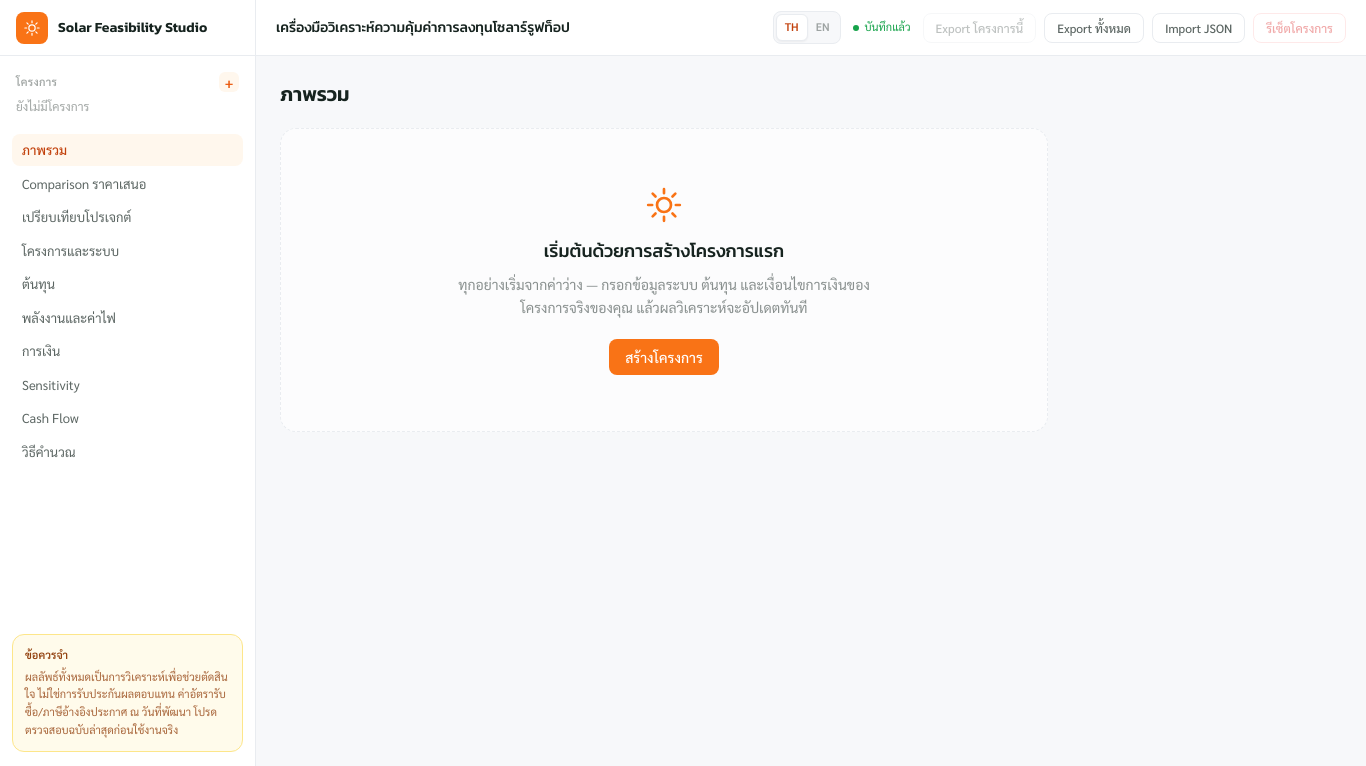
energy page (Phase 4) › summary strip reflects entered assumptions
The image size is (1366, 766).
Click the button "สร้างโครงการ" at (664, 356), box x1=609 y1=338 x2=719 y2=374
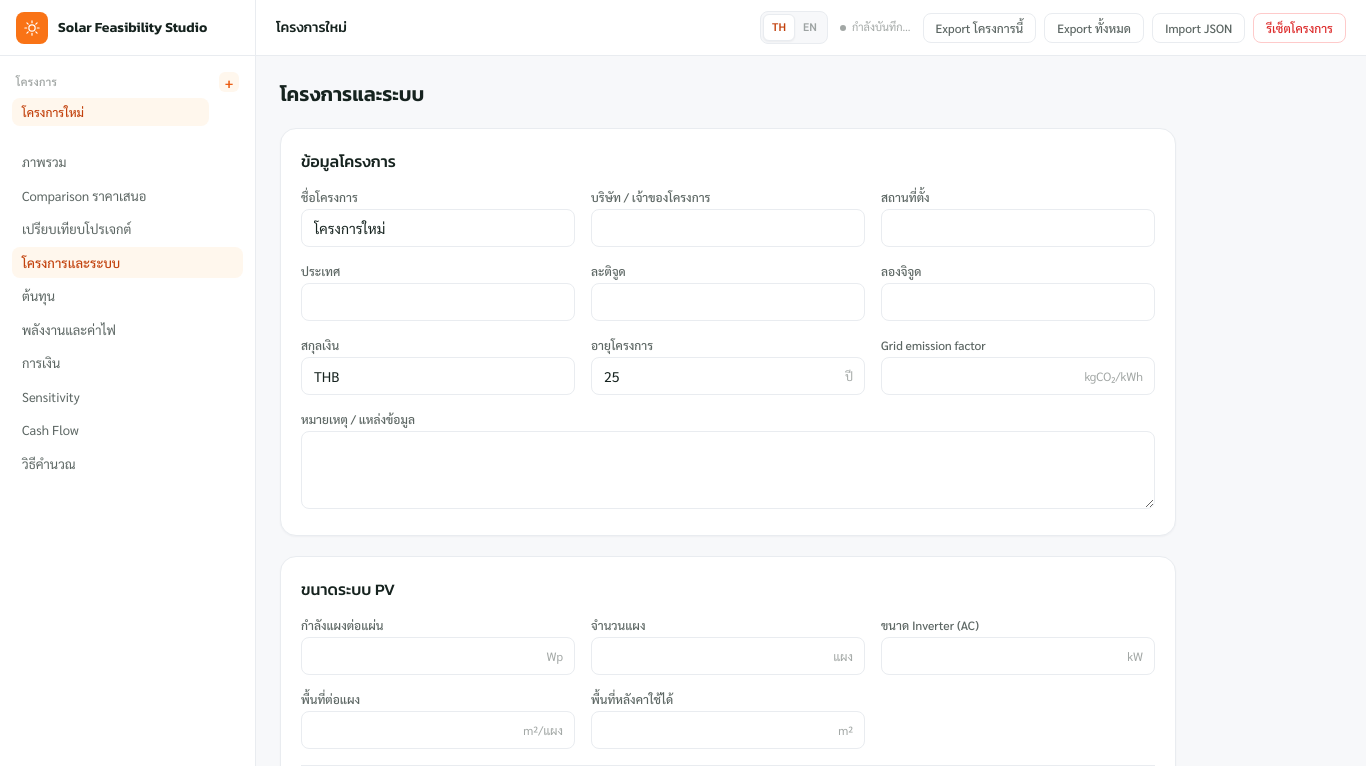
Type "500" into the number field labelled "กำลังแผงต่อแผ่น" at (438, 656), box x1=301 y1=637 x2=575 y2=675
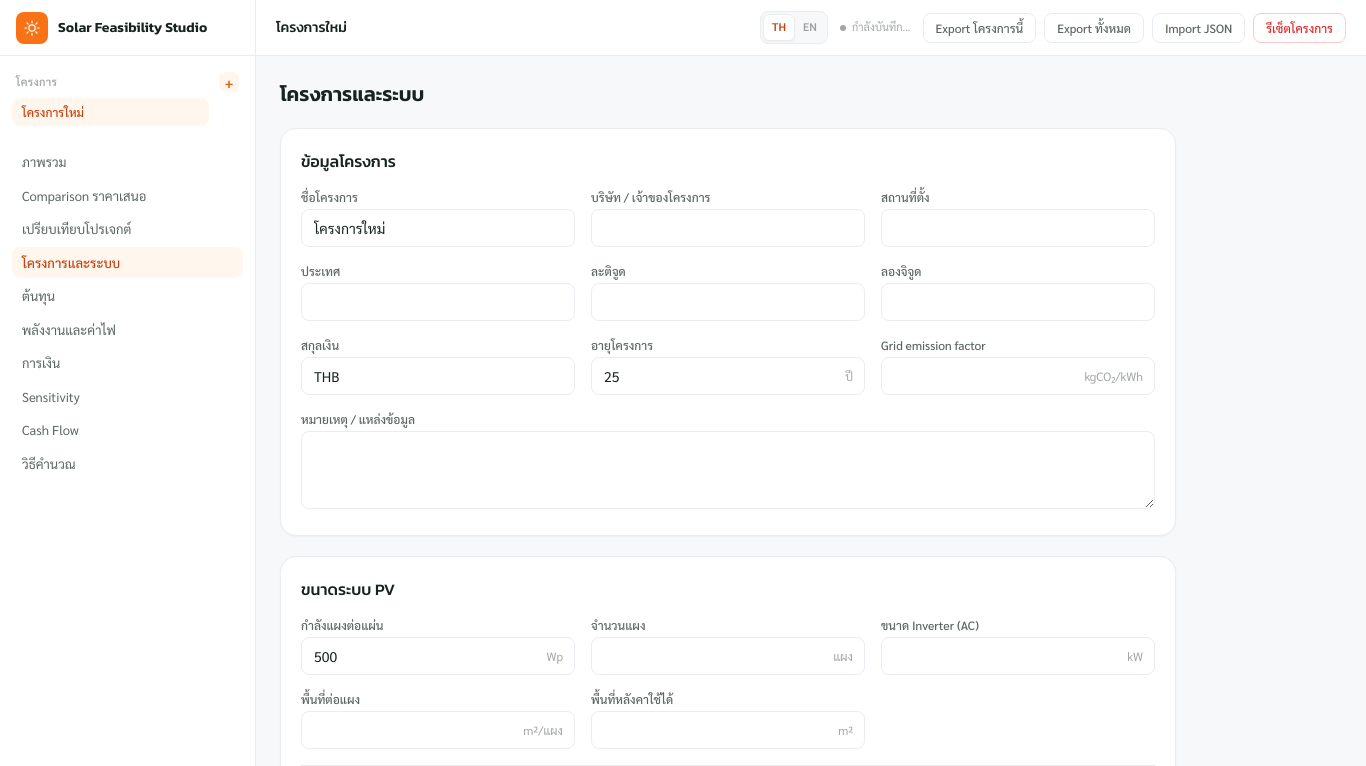
Type "10" into the number field labelled "จำนวนแผง" at (728, 656), box x1=591 y1=637 x2=865 y2=675
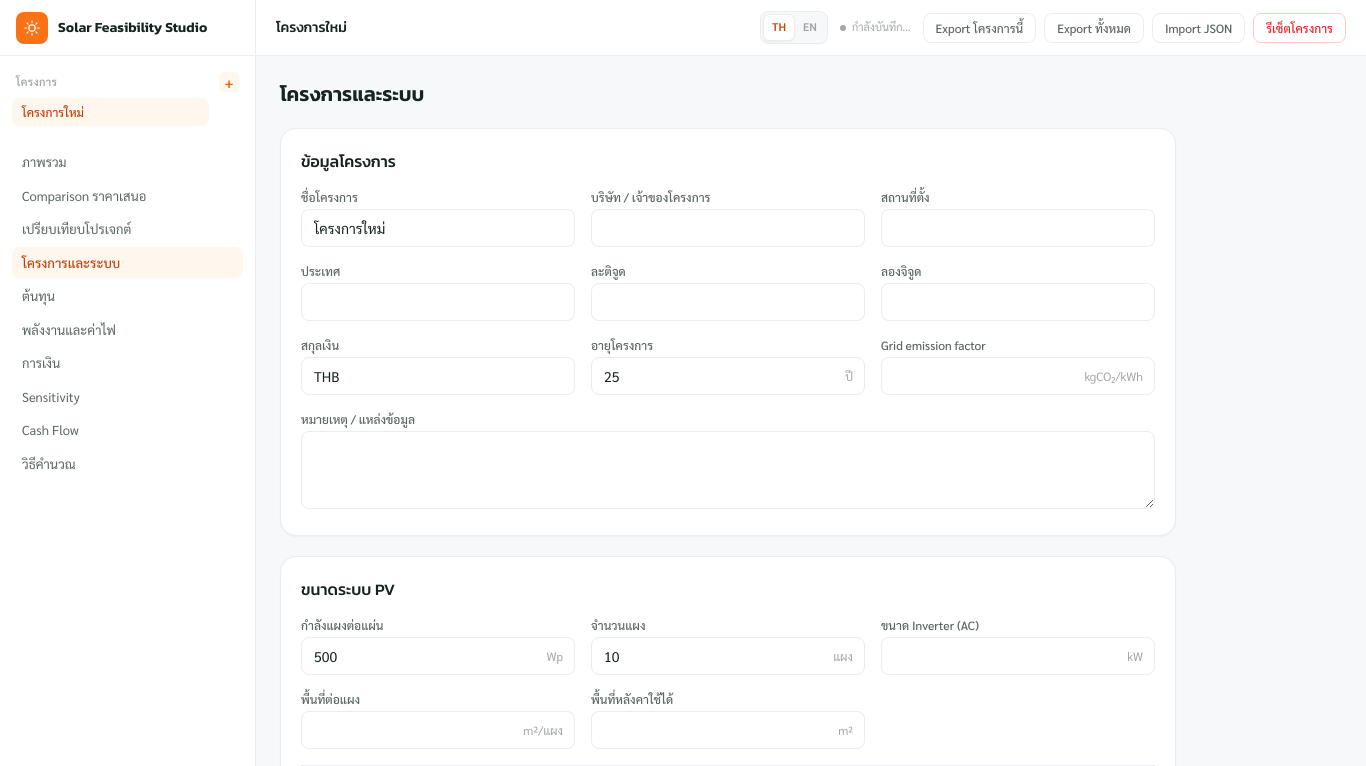
Click the link "พลังงานและค่าไฟ" at (69, 329), box x1=22 y1=320 x2=116 y2=338
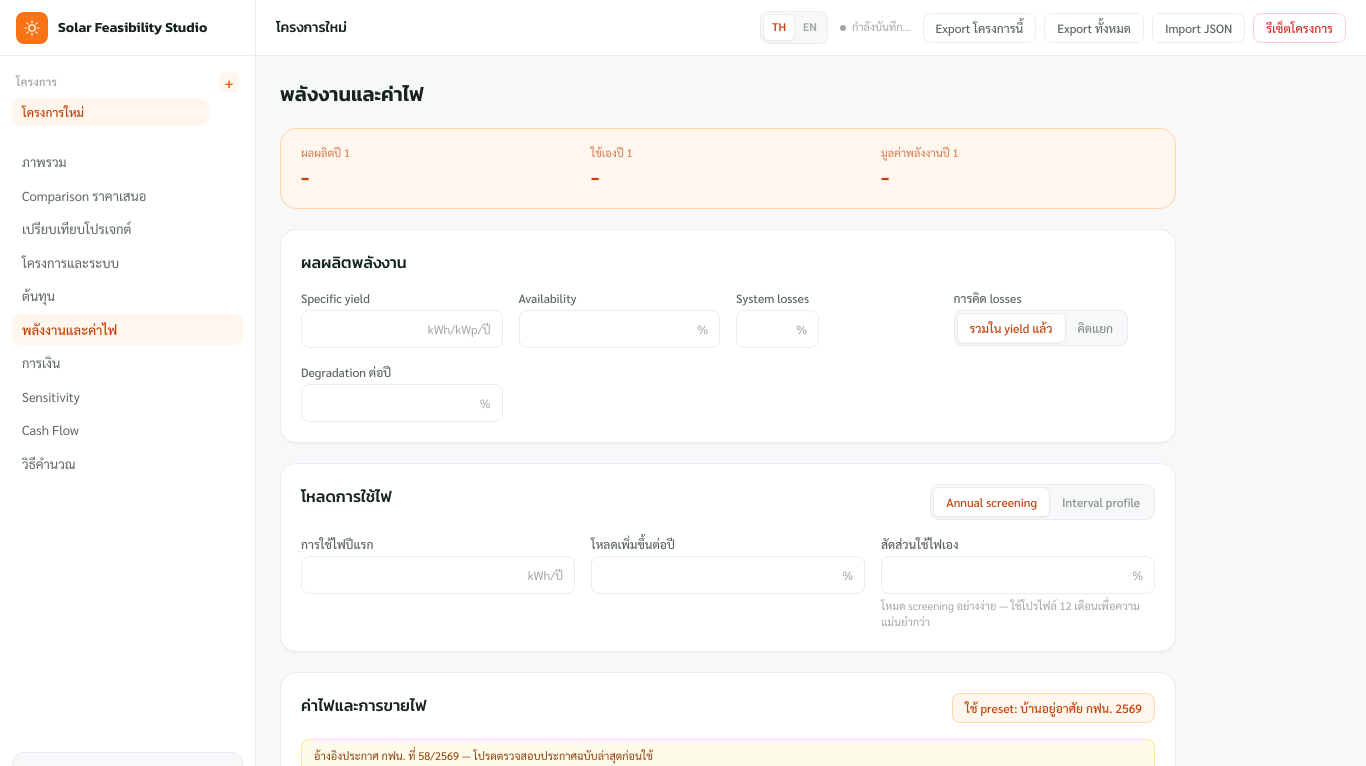
Type "1400" into the number field labelled "Specific yield" at (402, 328), box x1=301 y1=310 x2=502 y2=348
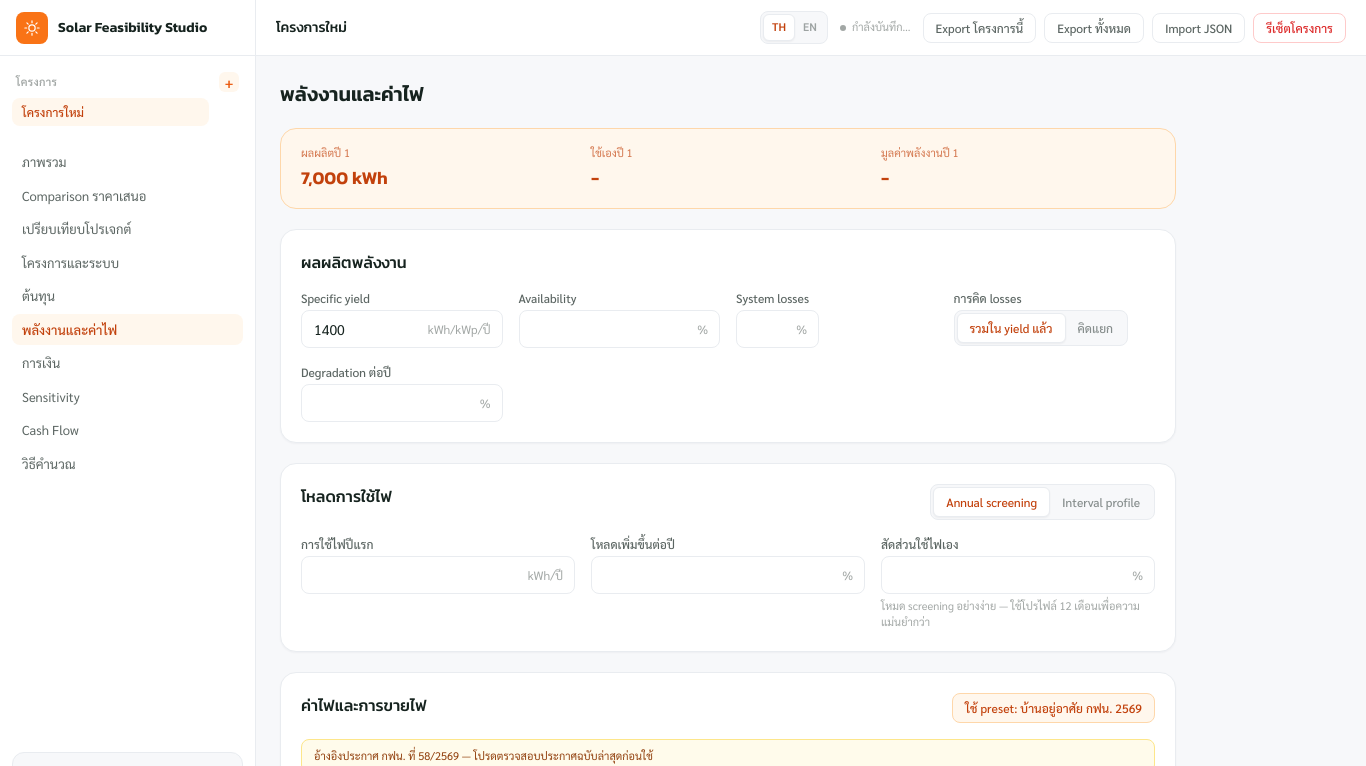
Now the text "7,000 kWh" is shown, box x1=301 y1=164 x2=388 y2=190
